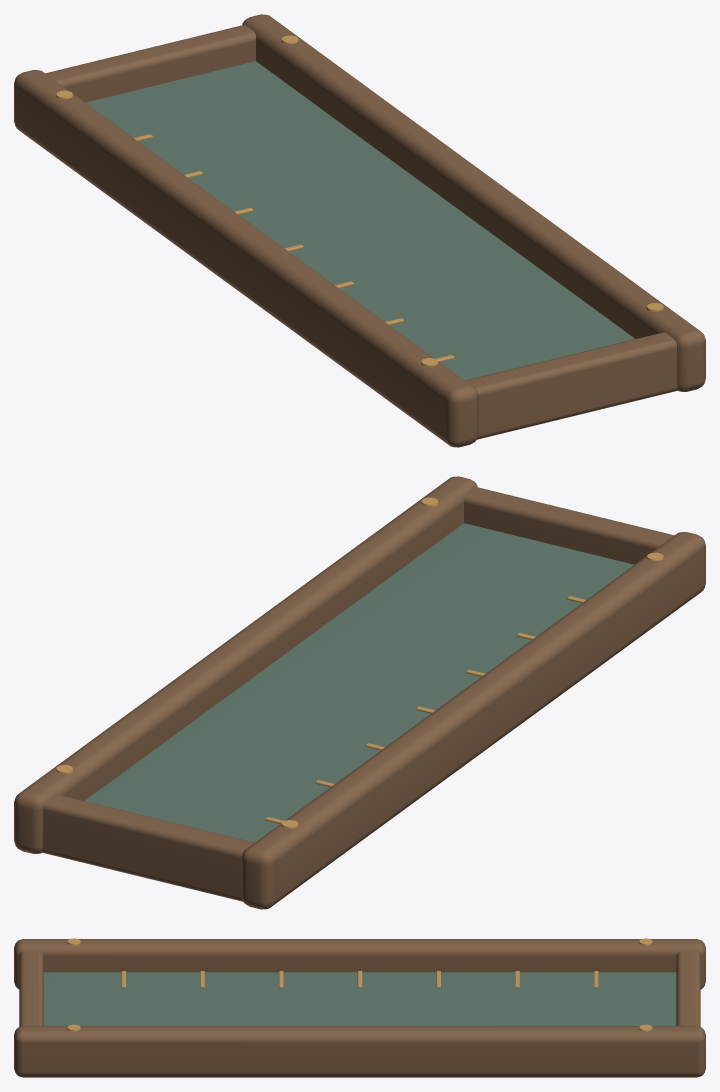
Rendered from echo-survey-tray.glb.
3 views of the same model, one above another, from view 1: azimuth 30°, elevation 25°; view 2: azimuth 150°, elevation 25°; view 3: azimuth 270°, elevation 25° (orthographic). The views are drawn at different scales.
Visible parts, largest first — view 1: Dark survey oak, Felt channel, Survey brass; view 2: Dark survey oak, Felt channel, Survey brass; view 3: Dark survey oak, Felt channel, Survey brass.
Boxes of the visible parts, box(x1,y1,x2,y2) form: Dark survey oak: box(14, 14, 705, 447); Felt channel: box(85, 61, 634, 380); Survey brass: box(56, 35, 663, 366); Dark survey oak: box(14, 476, 705, 909); Felt channel: box(85, 523, 634, 842); Survey brass: box(56, 497, 663, 828); Dark survey oak: box(14, 939, 705, 1077); Felt channel: box(43, 972, 676, 1025); Survey brass: box(67, 938, 652, 1031).
Size of the model in its own units: 0.564 by 0.125 by 1.67.
